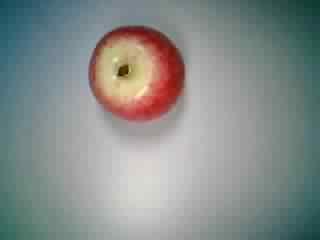apple: (82, 23, 186, 127)
